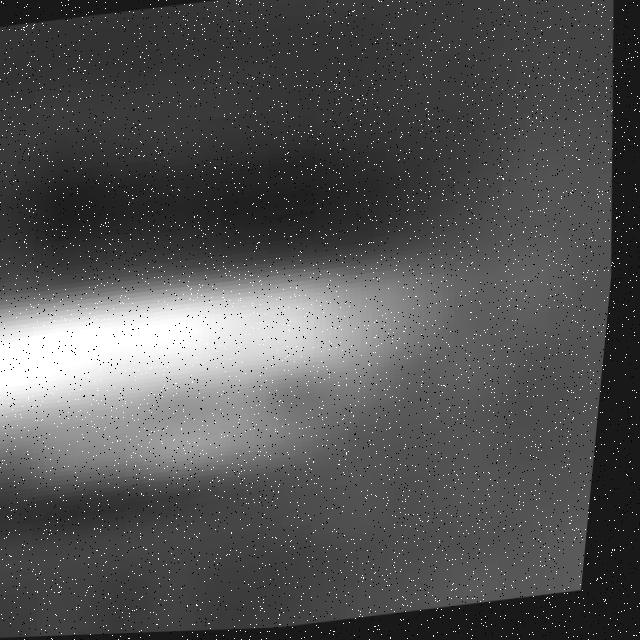person: (1, 249, 472, 519)
